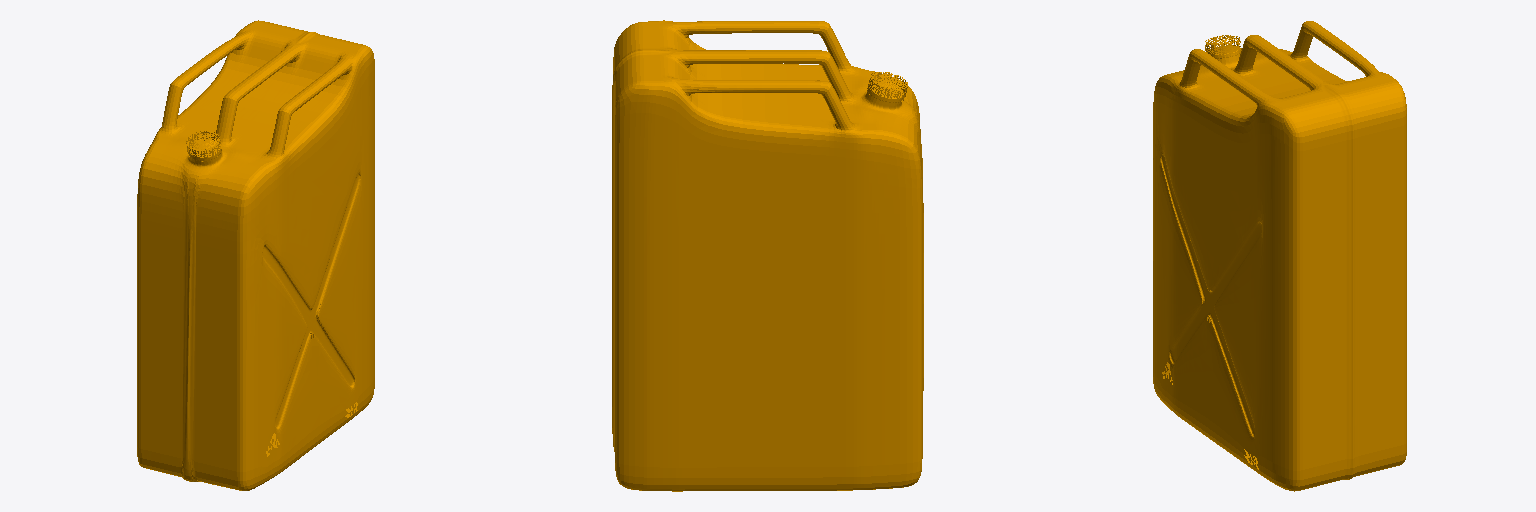
URDF robot description (oiltank):
<robot name="oiltank">
  <link name="oiltank">
    <inertial>
      <origin xyz="0 0 0.0145"/>
      <mass value="0.1" />
      <inertia  ixx="0.0001" ixy="0.0"  ixz="0.0"  iyy="0.0001"  iyz="0.0"  izz="0.0001" />
    </inertial>
    <visual>
      <origin xyz="0 0 0.0145"/>
      <geometry>        
     <mesh filename="oiltank.dae" scale="1 1 1"/>
    </geometry>
    </visual>
    <collision>
      <origin xyz="0 0 0.0145"/>
      <geometry>
        <box size="0.029 0.029 0.029"/>
      </geometry>
    </collision>
  </link>
  <gazebo reference="oiltank">
    <material>Gazebo/Blue</material>
  </gazebo>
</robot>

--- What the picture shows (computed from the rendered views, not written in the file) ---
3 views of the same robot in one strip: view 1: azimuth 30°, elevation 25°; view 2: azimuth 150°, elevation 25°; view 3: azimuth 270°, elevation 25° (orthographic).
Model oiltank with 1 links and 0 joints (none), rooted at oiltank, posed every joint at zero.
Links seen in each view (by area): view 1: oiltank; view 2: oiltank; view 3: oiltank.
Boxes of the visible links, x1=… form: oiltank: x1=137, y1=20, x2=374, y2=490; oiltank: x1=612, y1=20, x2=923, y2=491; oiltank: x1=1153, y1=21, x2=1406, y2=491.
Size in the robot's own frame: 0.3232 by 0.2685 by 0.4442 metres.
Meshes: 1 distinct files referenced, 1 mesh visuals loaded (1 Collada DAE).